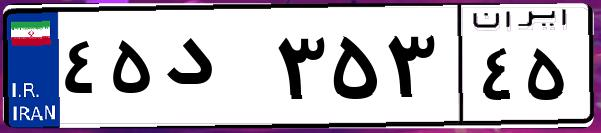3: (270, 28, 330, 110), (385, 28, 445, 110)
4: (57, 26, 110, 100), (475, 38, 525, 113)
5: (330, 28, 385, 110), (525, 38, 570, 115), (110, 28, 158, 98)
د: (158, 20, 270, 120)
